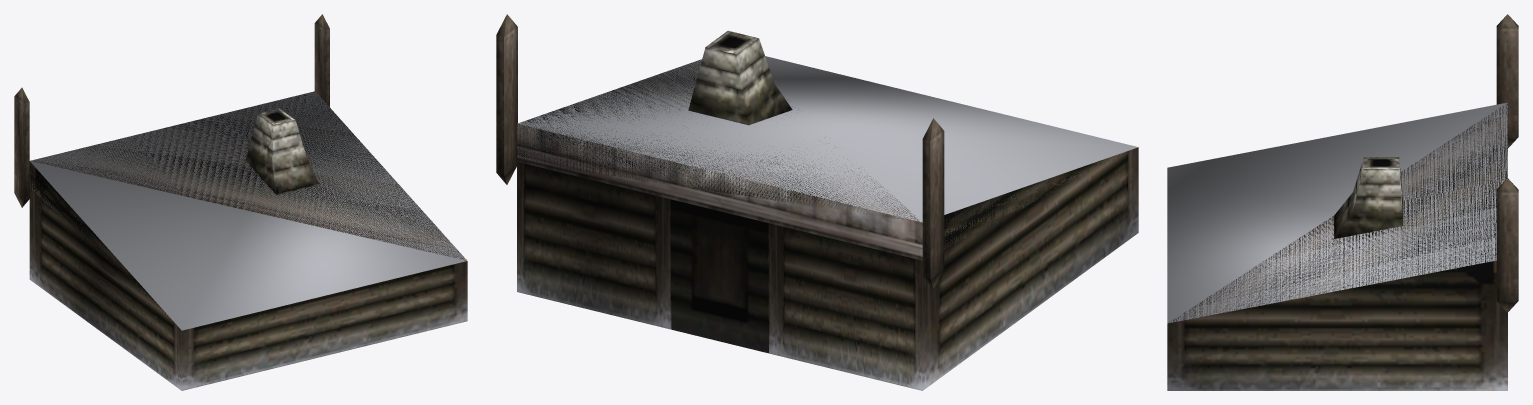
File: stbuho26.dae
The picture shows the model from 3 angles, left to right: view 1: azimuth 30°, elevation 25°; view 2: azimuth 150°, elevation 25°; view 3: azimuth 270°, elevation 25°; orthographic projection. The views are drawn at different scales.
Visible parts, largest first — view 1: hut01, crown; view 2: hut01, crown; view 3: hut01, crown.
Part boxes in pixels (x1,y1,x2,y2): hut01: (14,14,467,390); crown: (30,91,466,324); hut01: (496,14,1138,390); crown: (517,60,1134,248); hut01: (1167,14,1518,390); crown: (1168,103,1507,390).
Bounding box in the file's own units: 4.17 × 3.71 × 2.53.
1 material, 1 textured.
